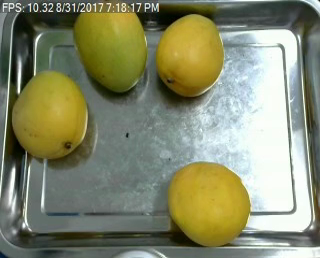Mango: (168, 162, 252, 245), (11, 69, 87, 159), (73, 0, 148, 90), (155, 14, 224, 94)
